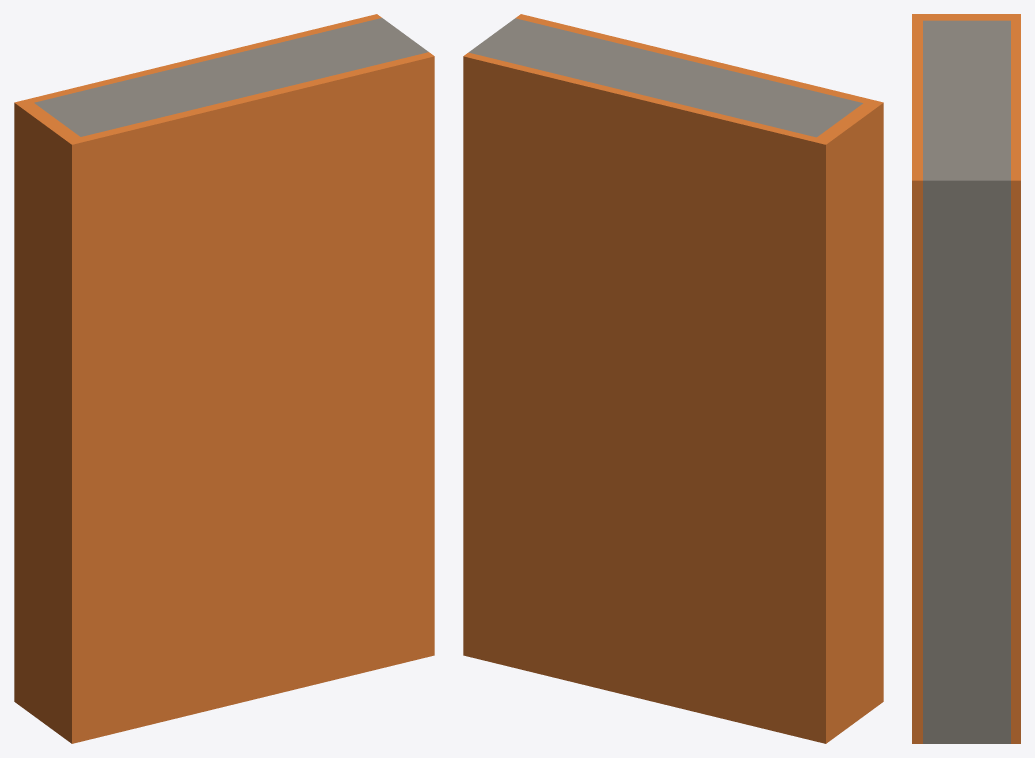
Rendered from Books_6.fbx.
3 renders of one model, left to right at view 1: azimuth 30°, elevation 25°; view 2: azimuth 150°, elevation 25°; view 3: azimuth 270°, elevation 25°, orthographic. The views are drawn at different scales.
Parts seen in each view (by area): view 1: pCube769; view 2: pCube769; view 3: pCube769.
Boxes of the visible parts, x1=… form: pCube769: x1=14, y1=14, x2=434, y2=743; pCube769: x1=463, y1=14, x2=883, y2=743; pCube769: x1=912, y1=14, x2=1020, y2=743.
Size of the model in its own units: 0.3622 by 0.5715 by 0.1.
1 material, 1 textured.
